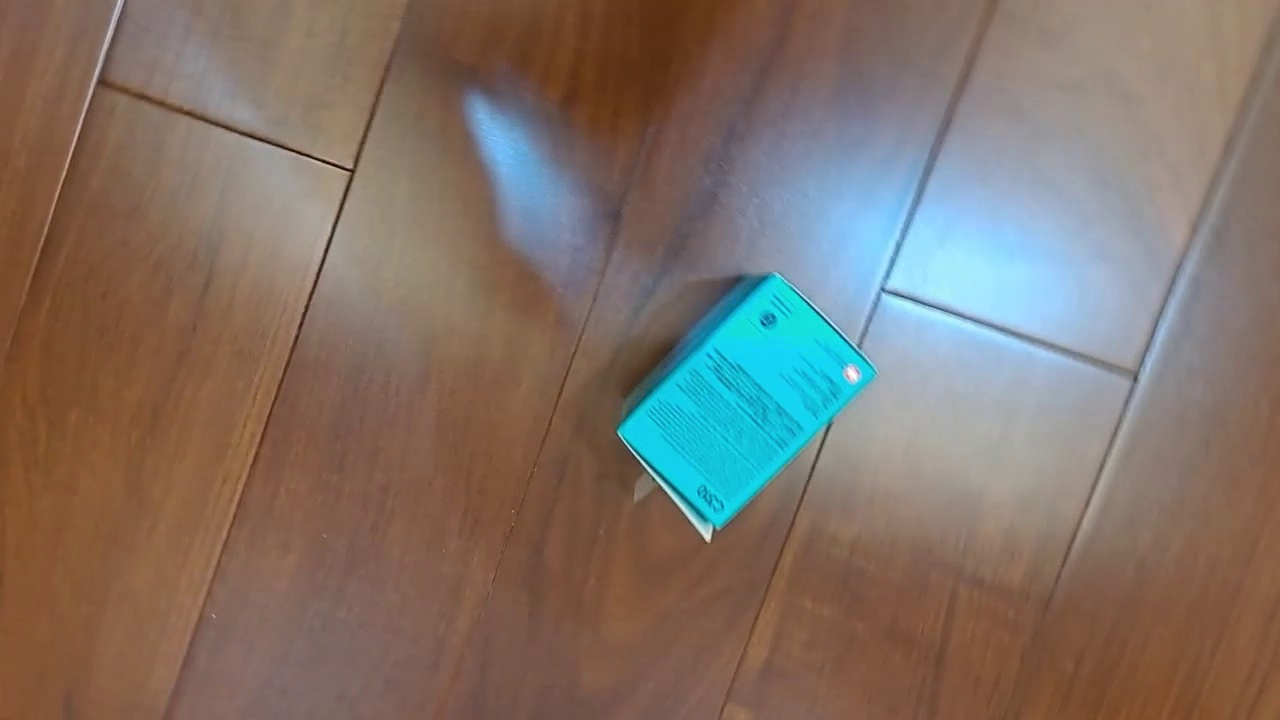webcam: (616, 269, 881, 544)
